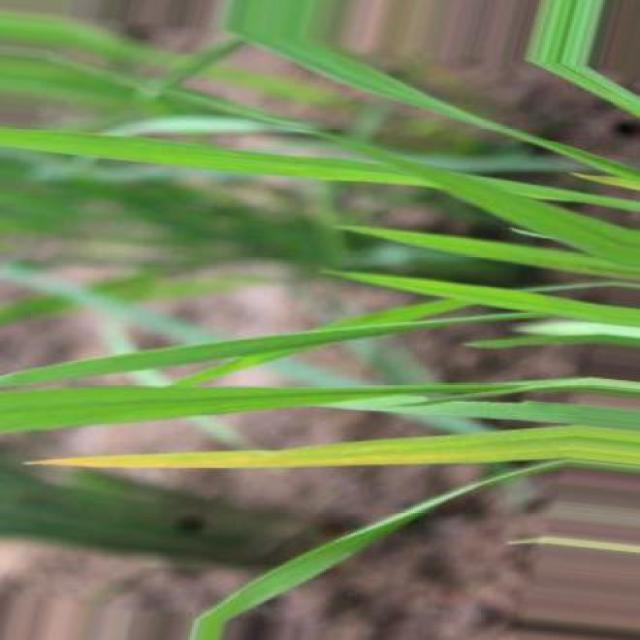Rice Tungro: (34, 425, 639, 469)
